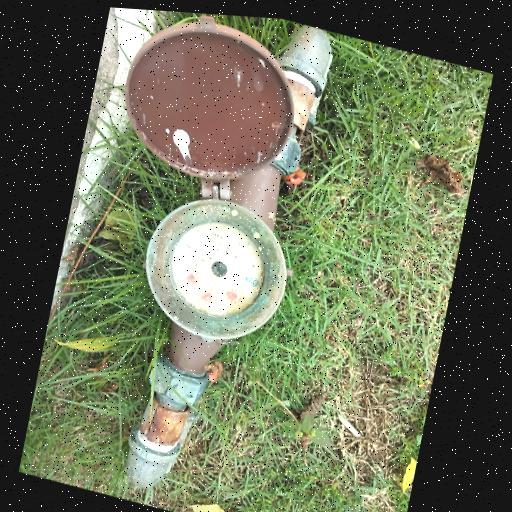0: (203, 237, 214, 250)
1: (221, 246, 231, 260), (230, 250, 240, 264)
8: (239, 255, 249, 269)
9: (212, 241, 222, 254)
border_water_meter_number: (200, 236, 252, 270)
